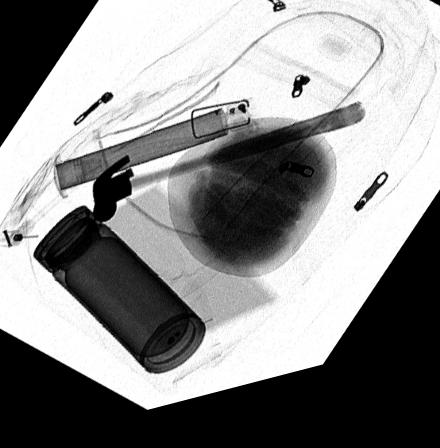Hammer: (92, 120, 365, 226)
